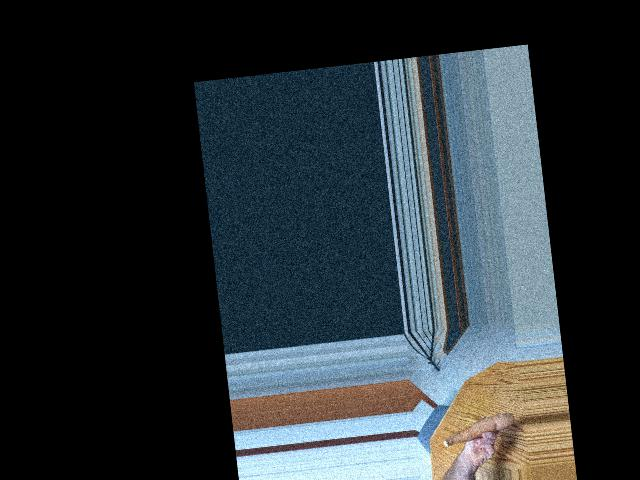sweet_potato: (440, 410, 514, 450)
